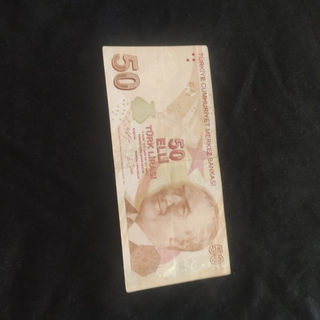50TLFront: (101, 45, 231, 292)
